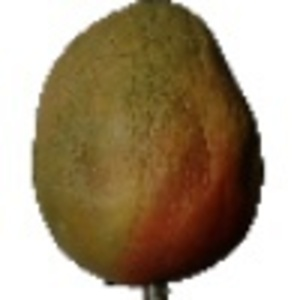mamão: (22, 3, 270, 286)
